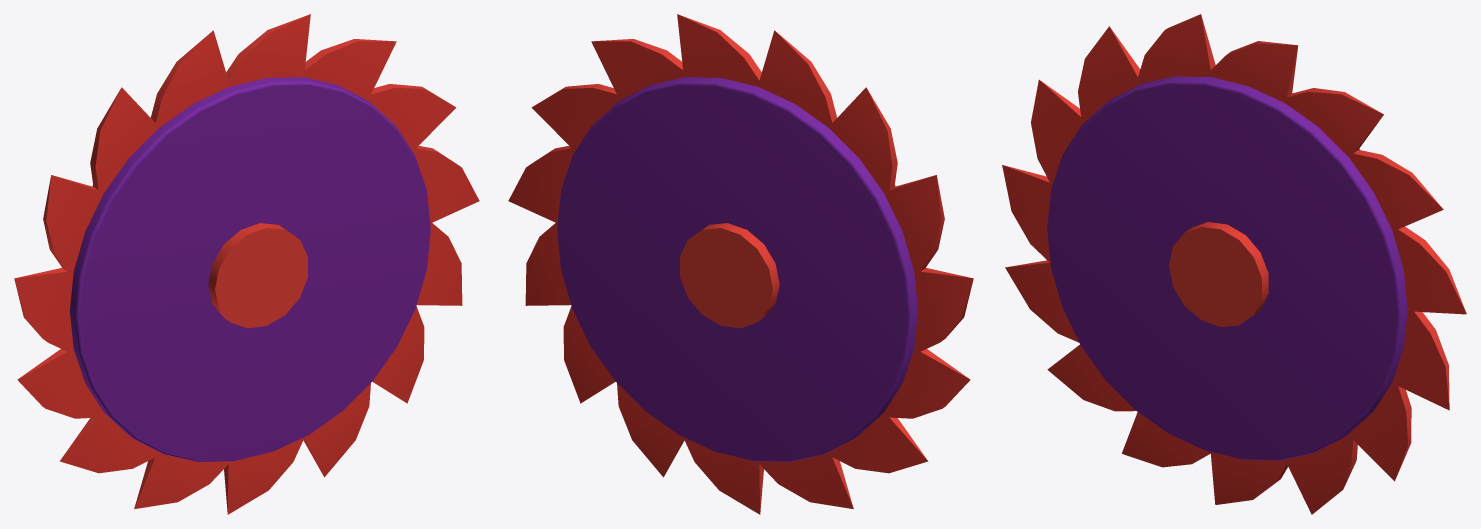
File: PokemonMonster_Landing_SAW.fbx
3 views of the same model, side by side, from view 1: azimuth 30°, elevation 25°; view 2: azimuth 150°, elevation 25°; view 3: azimuth 330°, elevation 25° (orthographic).
Visible parts, largest first — view 1: SAW_Blade, SAW_base; view 2: SAW_Blade, SAW_base; view 3: SAW_Blade, SAW_base.
Boxes of the visible parts, bbox=[...] form: SAW_Blade: bbox=[14, 14, 479, 514]; SAW_base: bbox=[208, 223, 307, 328]; SAW_Blade: bbox=[508, 14, 973, 514]; SAW_base: bbox=[680, 223, 779, 328]; SAW_Blade: bbox=[1002, 14, 1466, 514]; SAW_base: bbox=[1169, 222, 1268, 326].
Bounding box in the file's own units: 186 × 186 × 23.23.
1 material, 1 textured.
